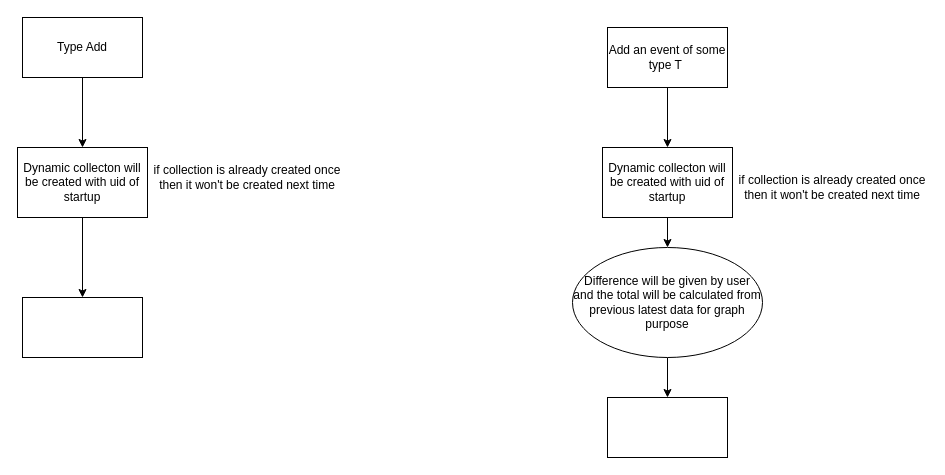
The diagram is 945 pixels wide and 475 high, and some of its shapes have lost their labels. The shapes that lost their labels are listed below. From the top down, each one's centre as x and y in pixels, then its label:
At (82,327): "Types will be added with their unique type_id".
At (667,427): "Event will be saved with the type_id of T".
